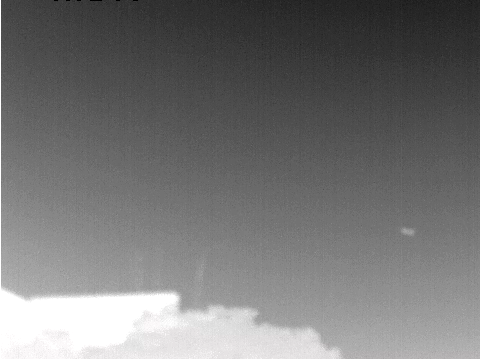dim target: (392, 219, 423, 244)
